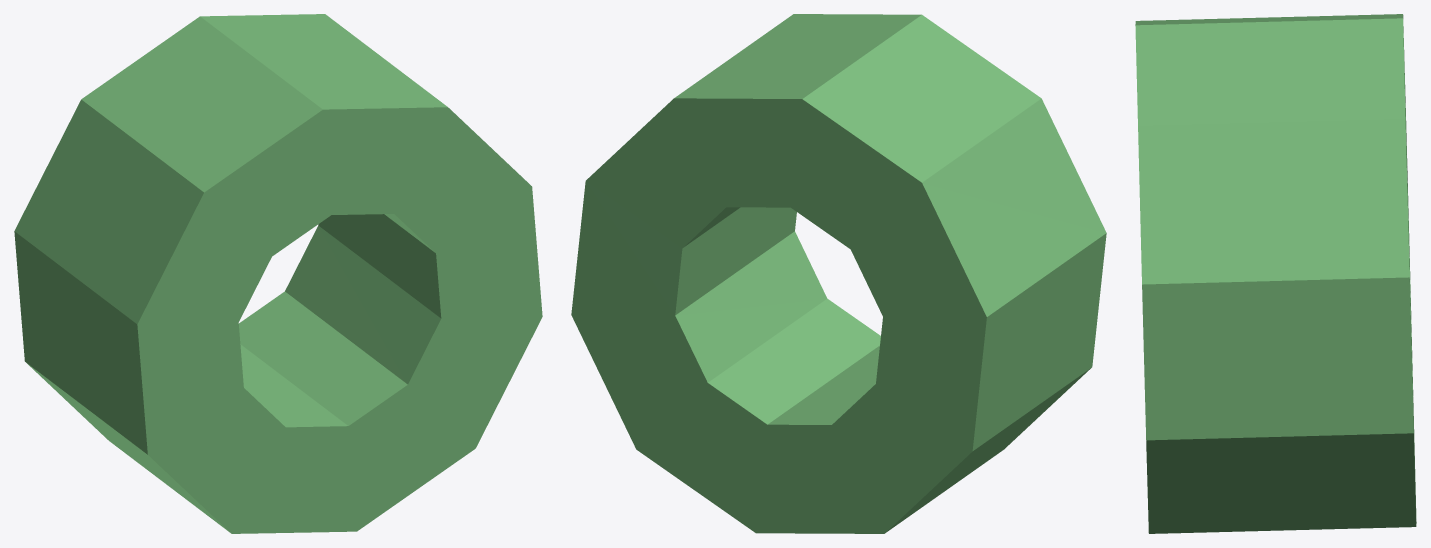
File: wheel2.glb
3 renders of one model, left to right at view 1: azimuth 30°, elevation 25°; view 2: azimuth 150°, elevation 25°; view 3: azimuth 270°, elevation 25°, orthographic. The views are drawn at different scales.
Visible parts, largest first — view 1: Mesh_Mesh_head_geo.001_lambert2SG.001; view 2: Mesh_Mesh_head_geo.001_lambert2SG.001; view 3: Mesh_Mesh_head_geo.001_lambert2SG.001.
Part boxes in pixels (<box>): Mesh_Mesh_head_geo.001_lambert2SG.001: <box>14,14,542,533</box>; Mesh_Mesh_head_geo.001_lambert2SG.001: <box>571,14,1106,533</box>; Mesh_Mesh_head_geo.001_lambert2SG.001: <box>1135,14,1416,533</box>.
Bounding box in the file's own units: 0.00392 × 0.00403 × 0.0021.
